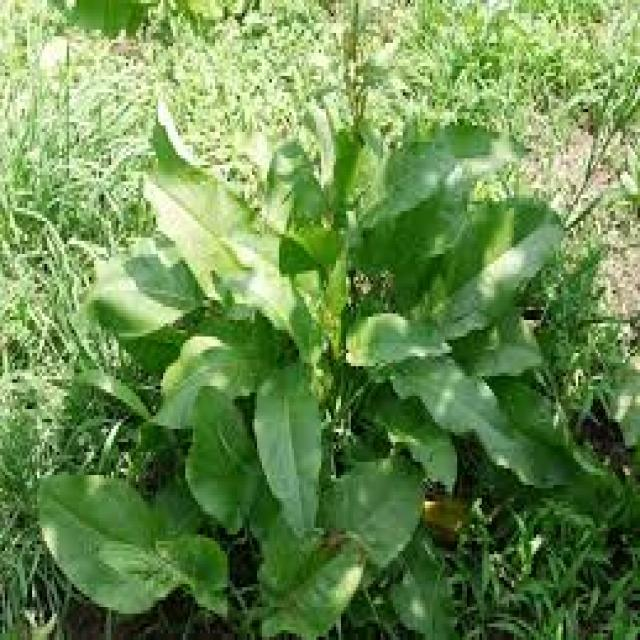organic waste: (54, 92, 598, 640)
